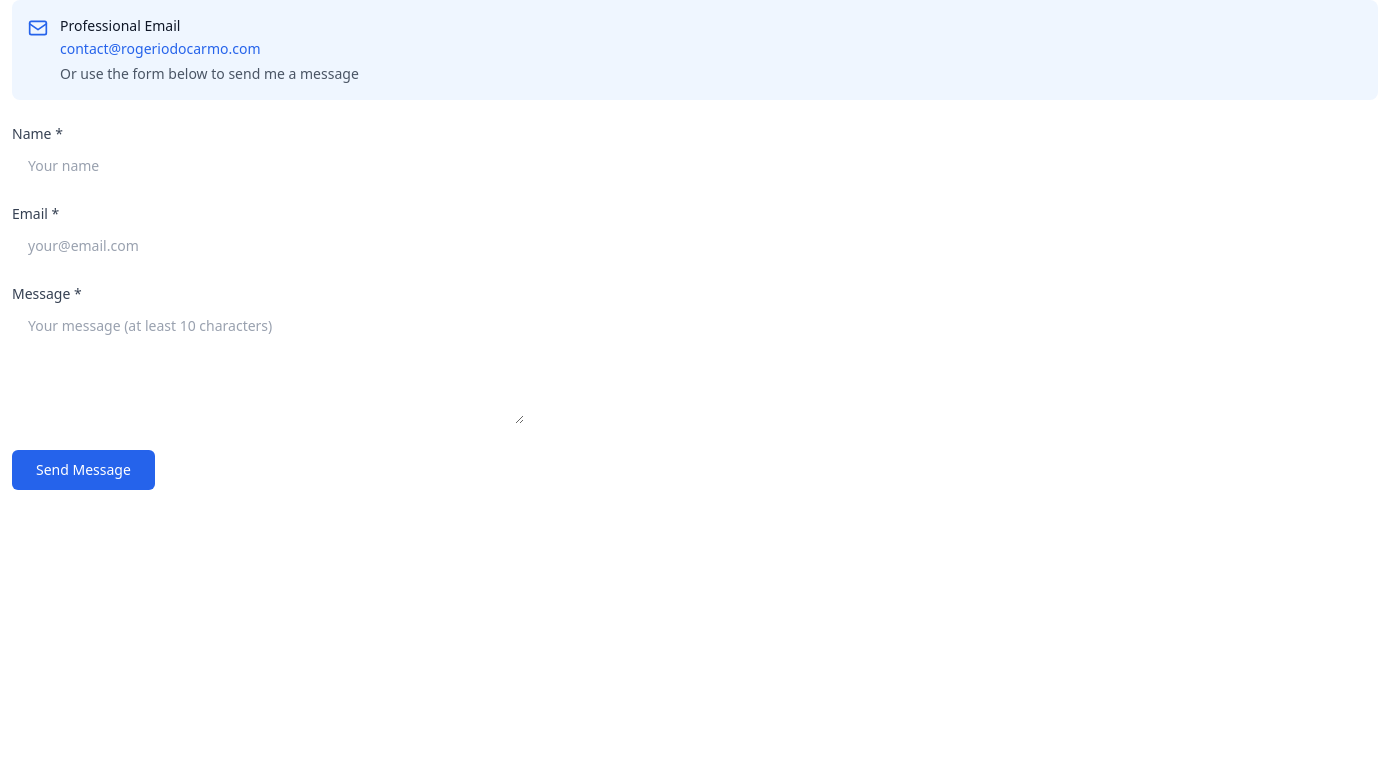
Test: ContactForm Component › shows validation error when email is invalid
Type "notanemail" into the field labelled "Email *". click: (268, 246)
box: [12, 228, 524, 264]
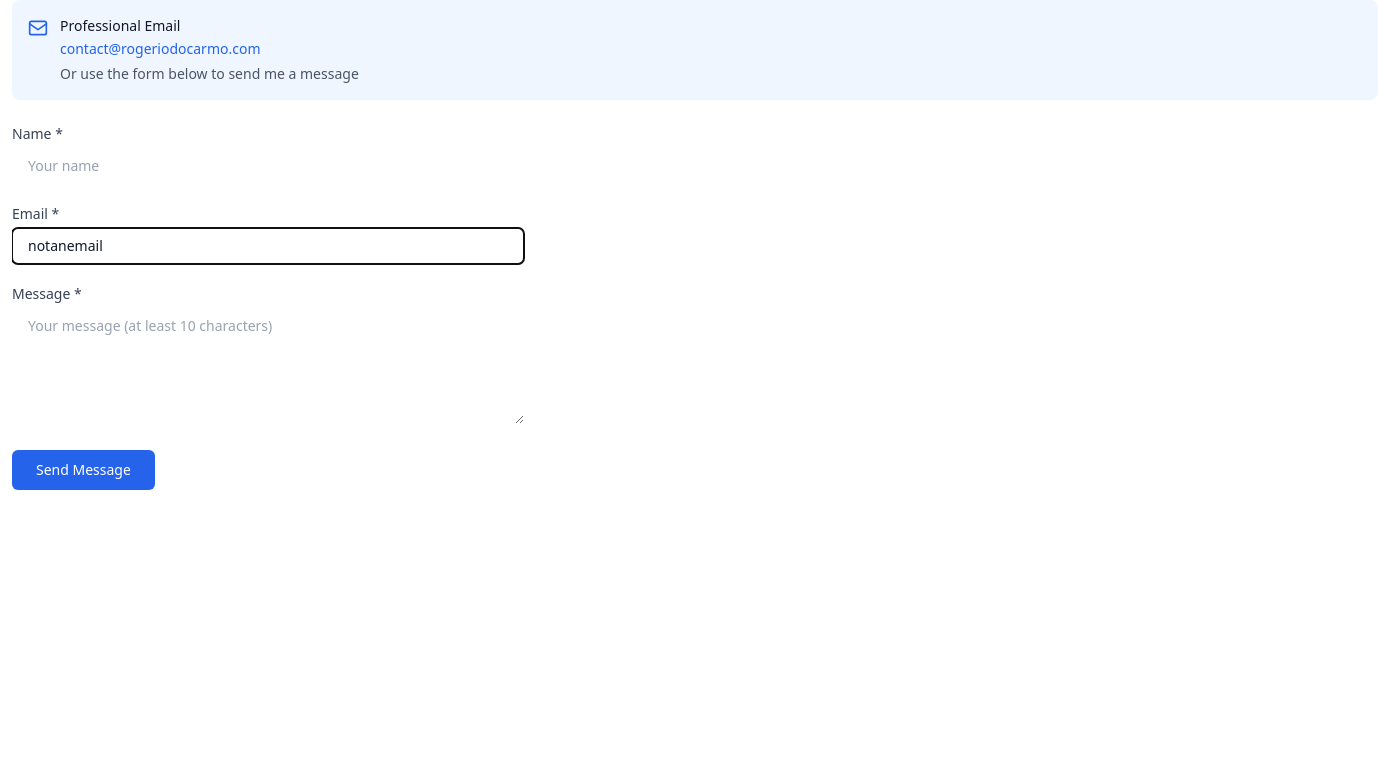
Click the button "Send Message". click: (83, 470)
box: [12, 450, 155, 490]
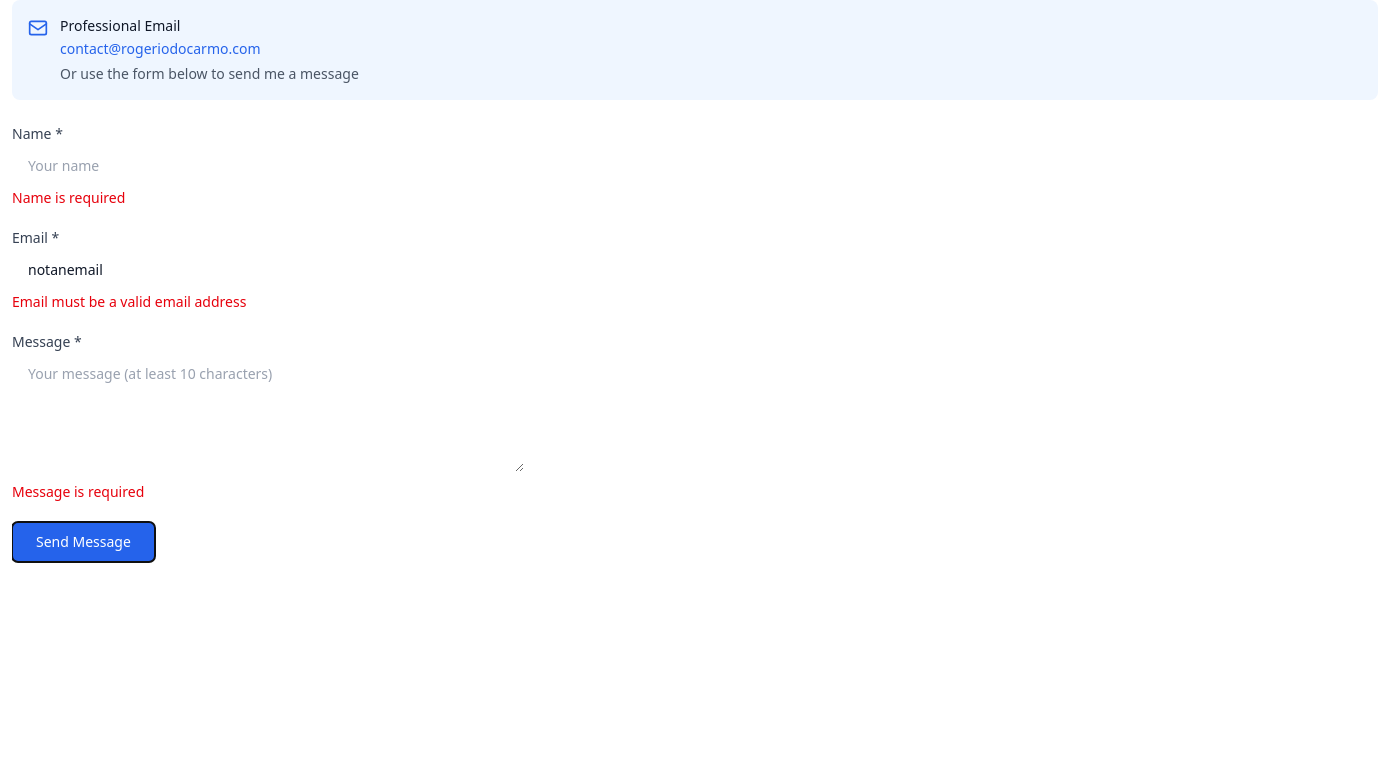
Expected: the text "Email must be a valid email address" is shown, [12, 292, 246, 311]
